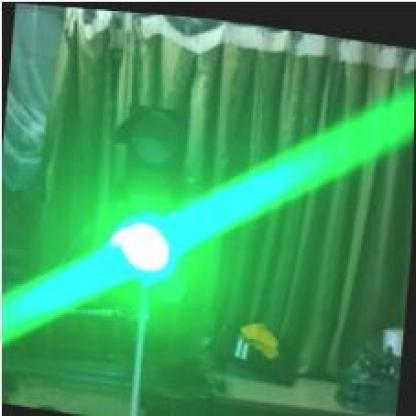green: (105, 102, 188, 280)
